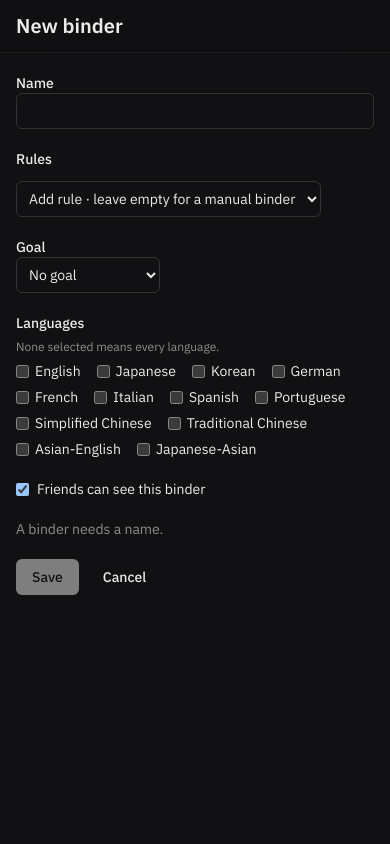
Scenario: the live preview › shows 0 for an artist rule with no matches
Select "Artist" in the dropdown named "Add rule" at (168, 199), box top-left (16, 181), bottom-right (321, 217)
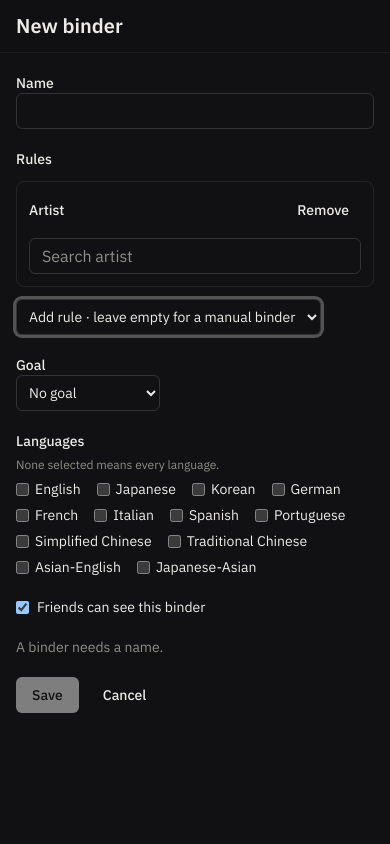
Click the field labelled "Search artist" at (195, 256), box top-left (29, 238), bottom-right (361, 274)
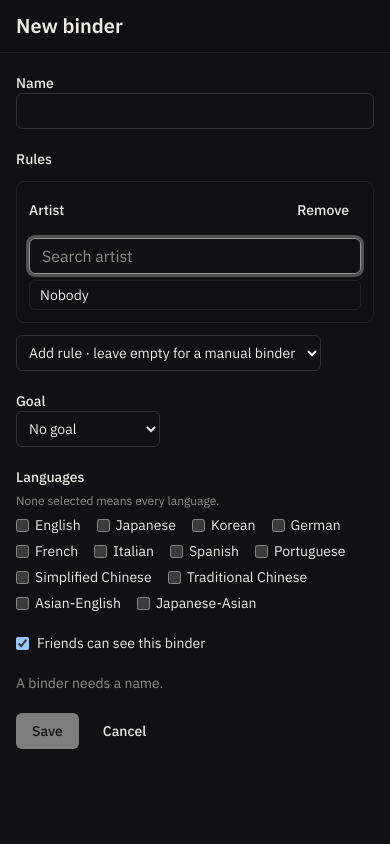
Click the button "Nobody" at (64, 295), box top-left (30, 281), bottom-right (360, 309)
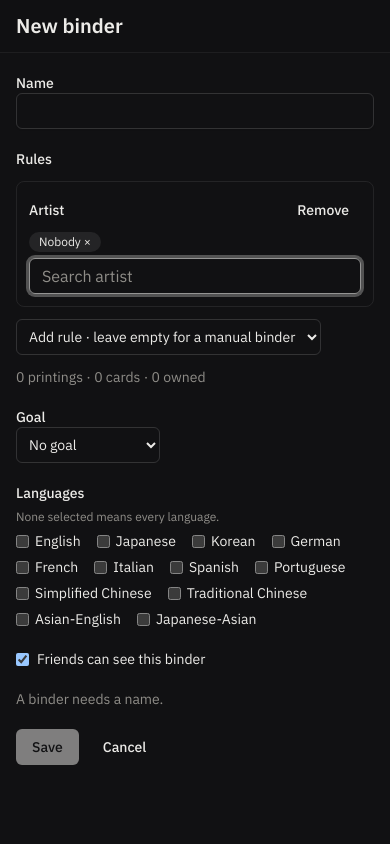
Expected: the text "0 printings · 0 cards · 0 owned" is shown, top-left (16, 368), bottom-right (206, 386)
